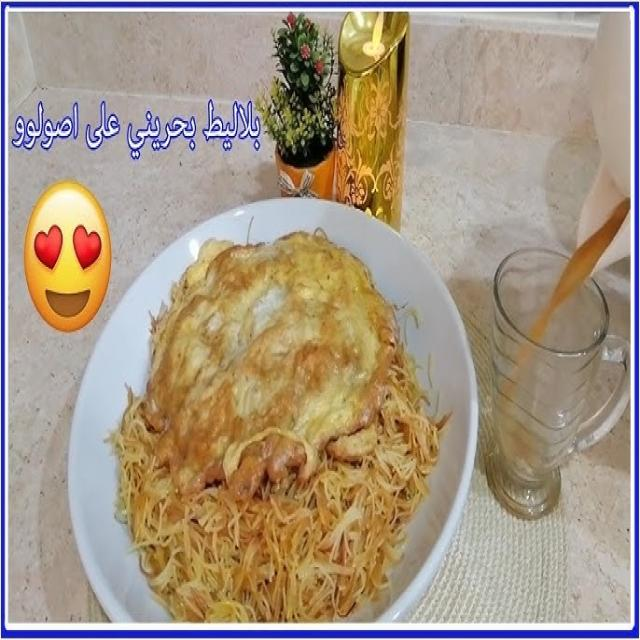Balaleet: (142, 246, 436, 601)
